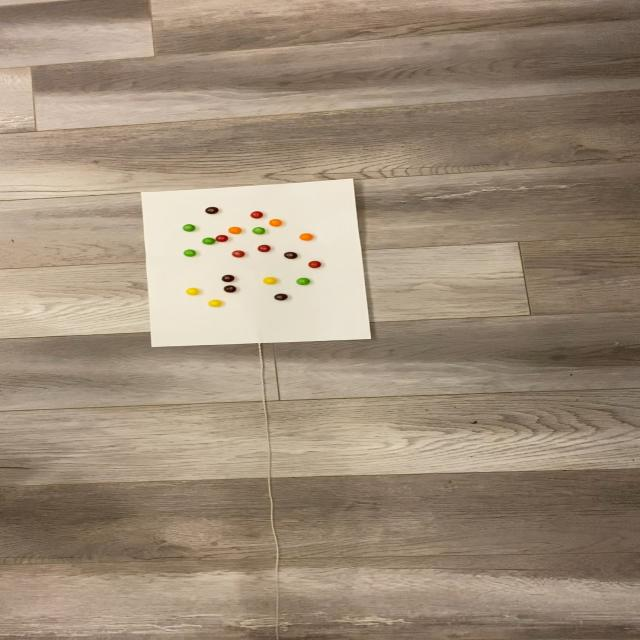smartie: (251, 227, 266, 235), (297, 277, 312, 285), (284, 252, 298, 260), (262, 276, 276, 284), (309, 261, 323, 269), (228, 226, 242, 234), (205, 207, 220, 214), (222, 274, 235, 282), (250, 210, 263, 218), (274, 294, 288, 301), (186, 288, 200, 295), (208, 300, 222, 307), (202, 238, 216, 245), (231, 250, 245, 257), (257, 244, 271, 251), (269, 219, 283, 226), (299, 233, 313, 240), (223, 286, 236, 293), (182, 223, 195, 230), (216, 234, 229, 241), (183, 249, 196, 255)
